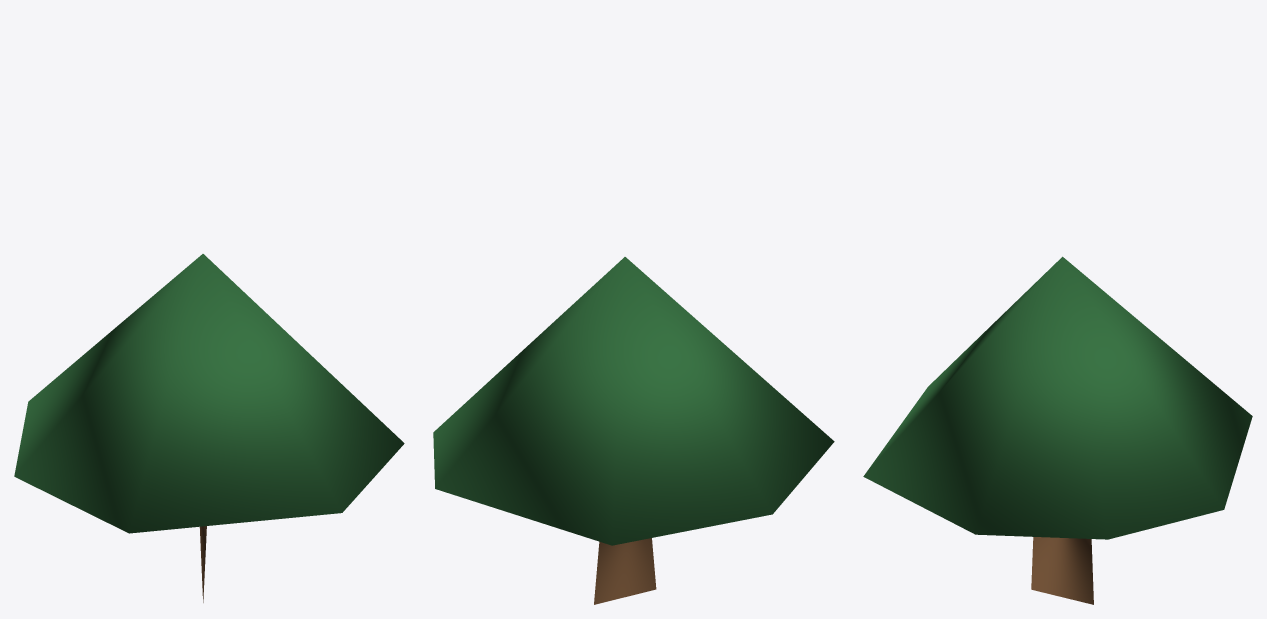
Rendered from prop_tree_conifer_0_far.glb.
The picture shows the model from 3 angles, left to right: view 1: azimuth 30°, elevation 25°; view 2: azimuth 150°, elevation 25°; view 3: azimuth 270°, elevation 25°; orthographic projection.
Parts seen in each view (by area): view 1: Tier0; view 2: Tier0, Trunk; view 3: Tier0, Trunk.
Boxes of the visible parts, box(x1,y1,x2,y2) form: Tier0: box(14, 254, 404, 533); Tier0: box(433, 257, 834, 545); Trunk: box(594, 538, 656, 604); Tier0: box(863, 256, 1252, 539); Trunk: box(1031, 537, 1093, 604).
Size of the model in its own units: 3.05 by 5.03 by 3.04.
